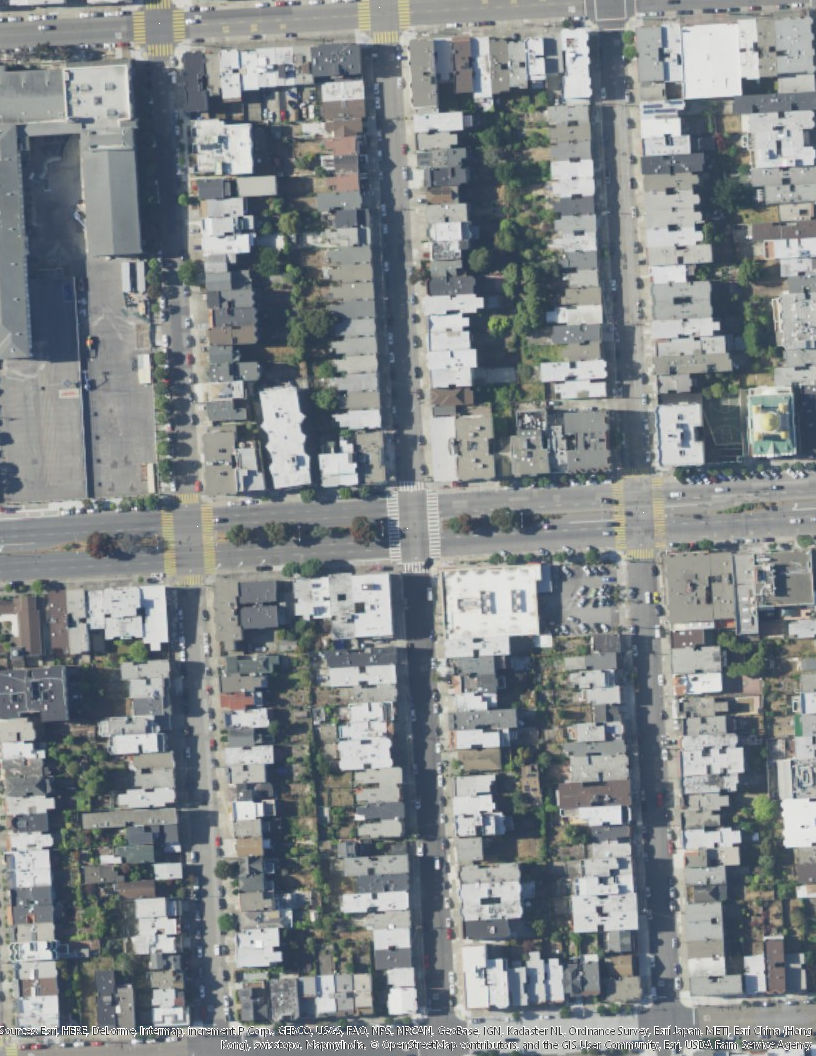zebracross: (199, 505, 218, 574), (158, 509, 177, 578), (651, 478, 669, 548), (424, 492, 442, 559), (386, 494, 402, 562), (613, 479, 627, 548), (169, 9, 188, 42), (131, 13, 147, 44), (356, 1, 371, 31), (397, 1, 411, 29), (627, 548, 656, 561), (174, 574, 201, 587), (173, 494, 200, 506), (149, 45, 176, 57), (401, 563, 430, 574), (394, 481, 425, 491), (623, 469, 652, 479), (373, 32, 397, 44), (144, 1, 171, 11)
